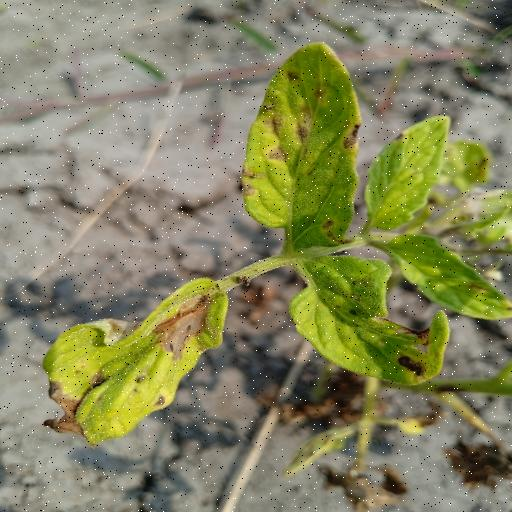Tomato_Brown_Spots: (42, 273, 233, 446), (240, 41, 363, 256), (288, 252, 450, 388)
